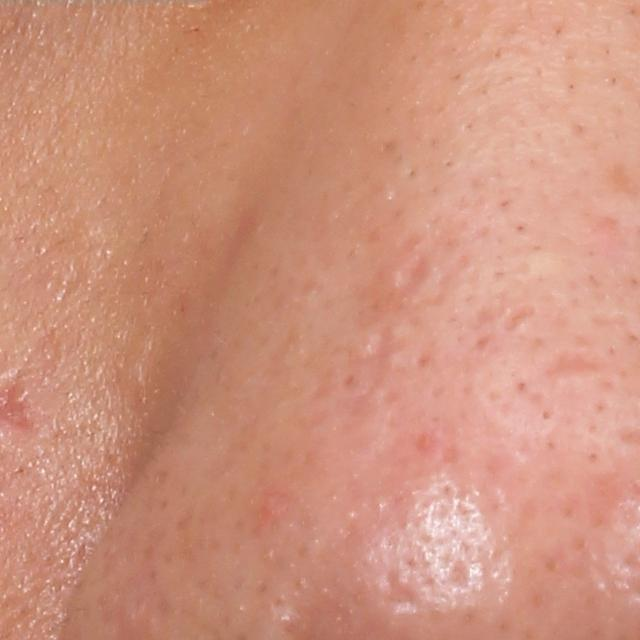atrophic_scar: (341, 320, 412, 406), (531, 344, 603, 385), (392, 249, 431, 309), (502, 301, 538, 337)
